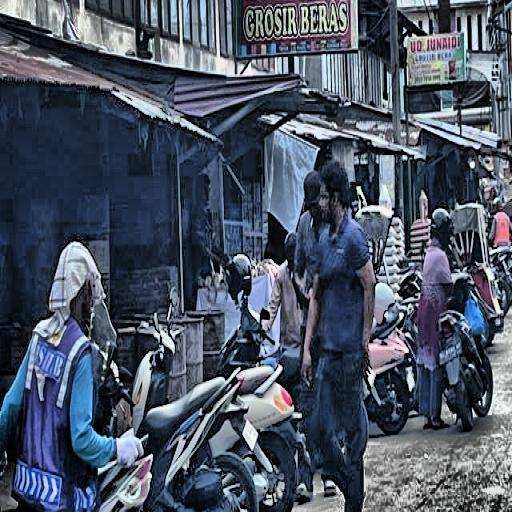Rokok: (295, 171, 324, 292)
